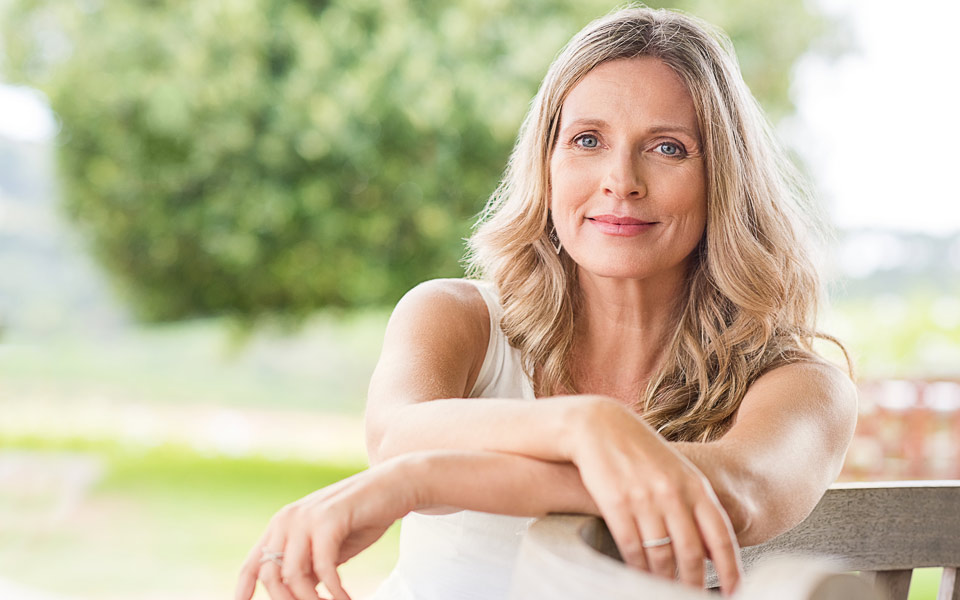Without Helmet: (487, 6, 796, 332)
